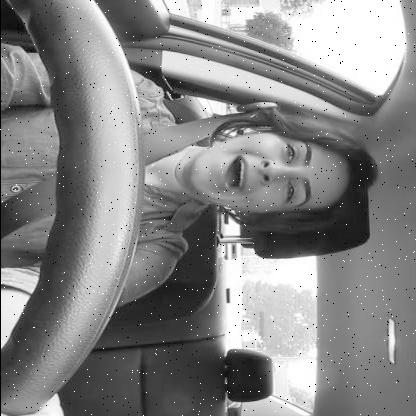seatbelt: (0, 96, 398, 287)
